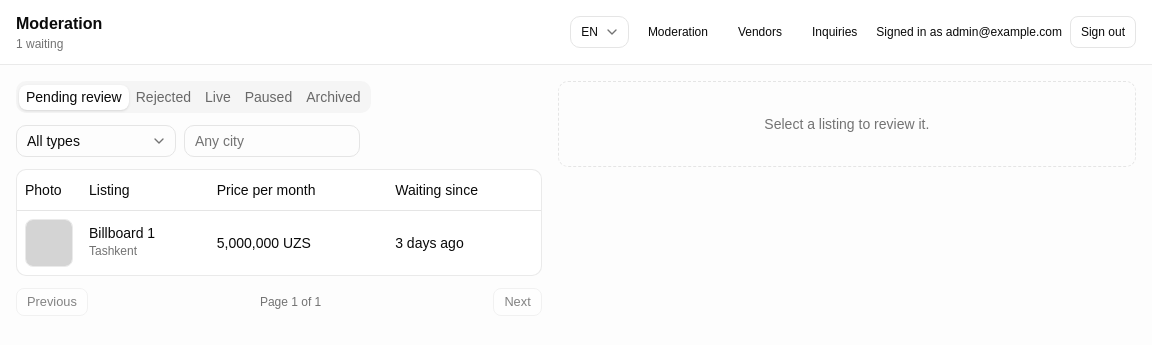
Scenario: tabs and filters › the Rejected tab asks for REJECTED and shows each listing status
Expected: the link "Billboard 1" is shown, [89, 224, 155, 240]
Click the tab "Rejected". click: (163, 97)
box: [129, 84, 198, 110]
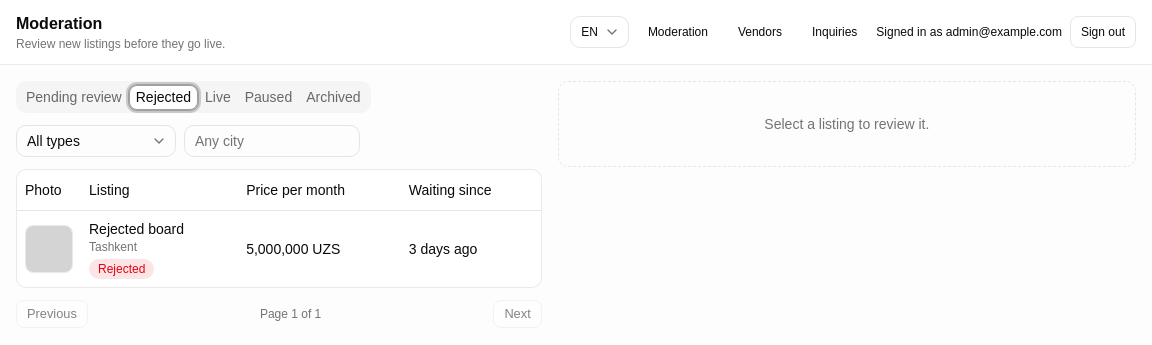
Now the link "Rejected board" is shown, box [89, 220, 184, 236]
Now the link "Billboard 1" is gone
